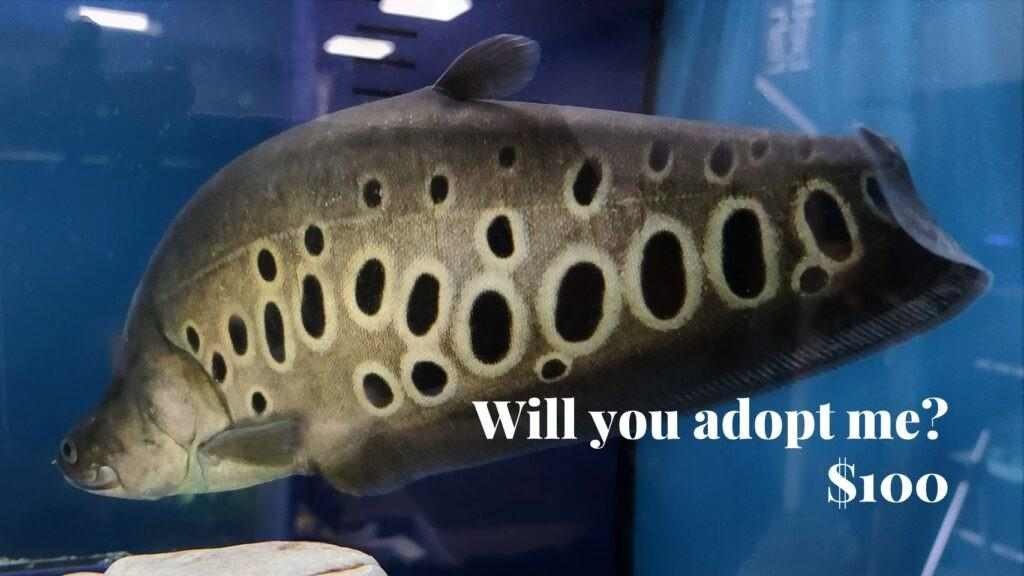Knifefish: (49, 30, 992, 506)
